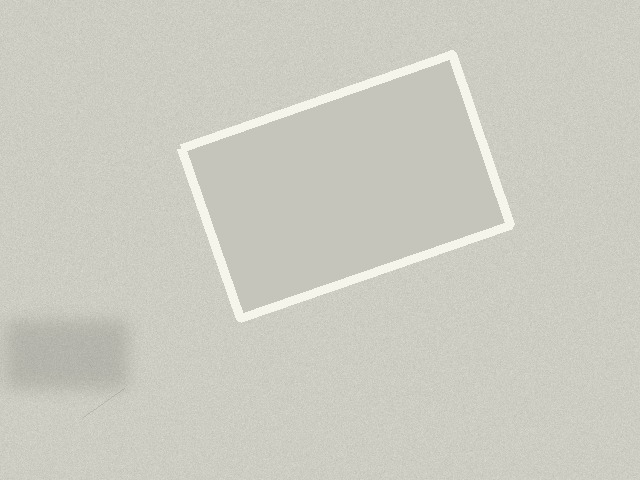parking_area: (181, 54, 510, 318)
